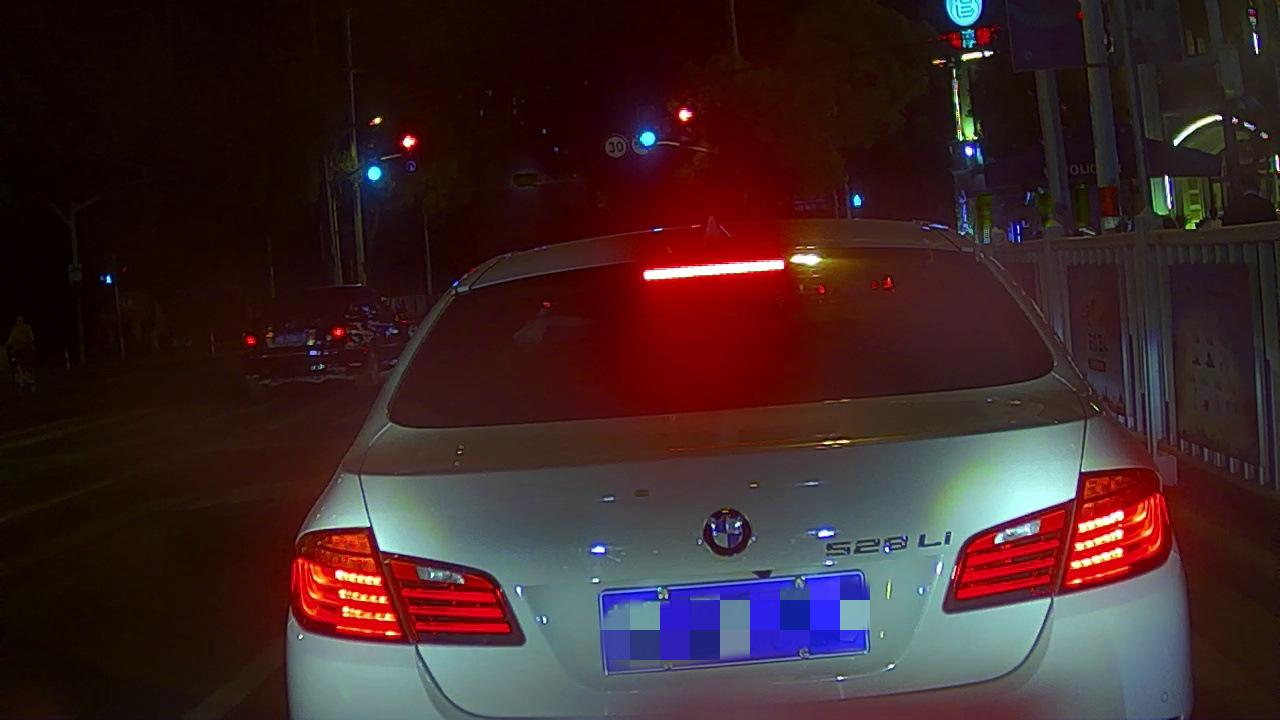traffic_light: (637, 125, 659, 151), (363, 161, 385, 184), (398, 129, 420, 152), (675, 104, 696, 126)
